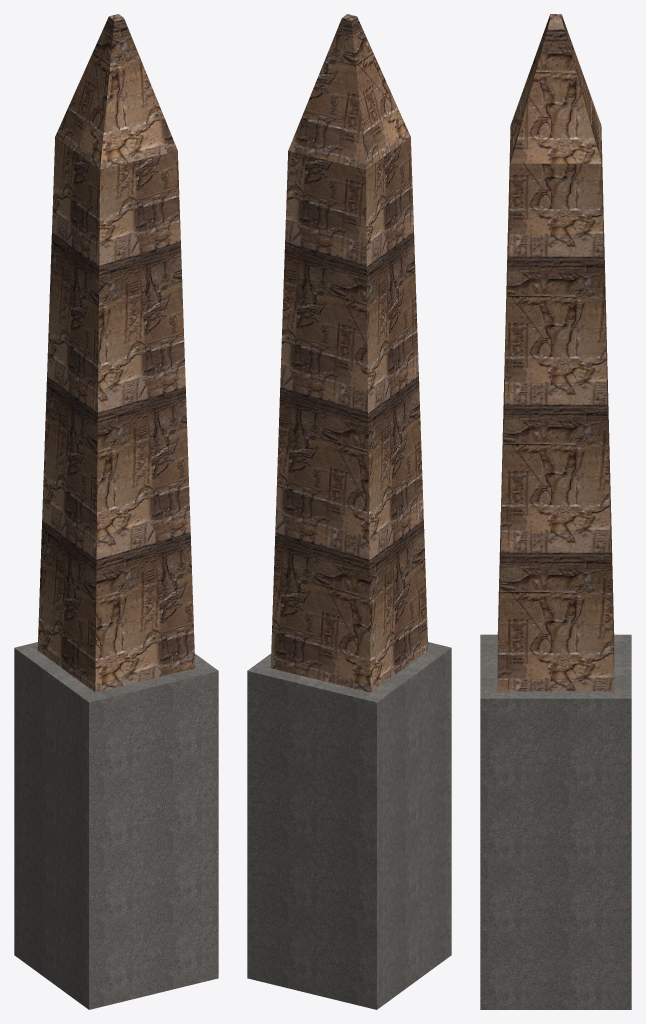
Rendered from components_desert_obelisk.glb.
The picture shows the model from 3 angles, left to right: view 1: azimuth 30°, elevation 25°; view 2: azimuth 150°, elevation 25°; view 3: azimuth 270°, elevation 25°; orthographic projection.
Parts seen in each view (by area): view 1: desert_obelisk; view 2: desert_obelisk; view 3: desert_obelisk.
Boxes of the visible parts, left/top/right/bottom form: desert_obelisk: left=14, top=14, right=218, bottom=1009; desert_obelisk: left=247, top=14, right=451, bottom=1009; desert_obelisk: left=480, top=14, right=631, bottom=1009.
Size of the model in its own units: 3.75 by 26.25 by 3.75.
Materials: 2 (2 with a texture image).
